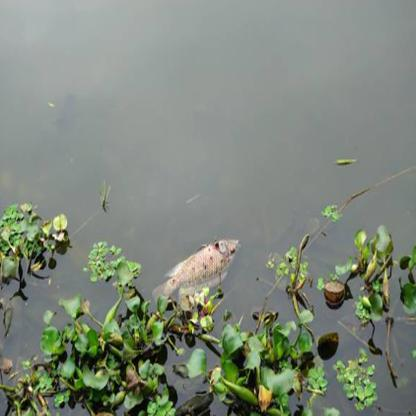deceased fish: (159, 238, 244, 305)
